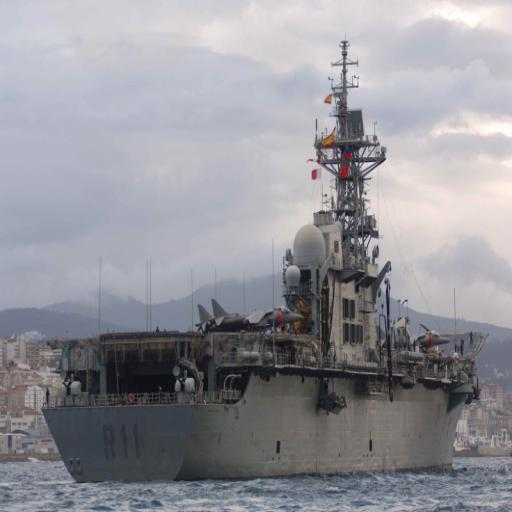Portanaves: (37, 29, 491, 488)
